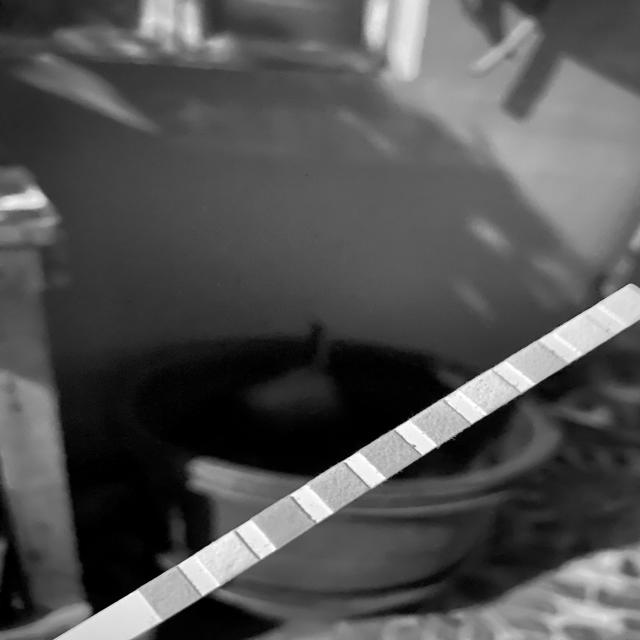Bilirubin: (209, 544, 244, 570)
Blood: (374, 440, 405, 468)
Glucose: (154, 579, 188, 606)
Ketone: (267, 509, 300, 535)
Leukocytes: (611, 295, 640, 311)
Nitrite: (567, 323, 595, 344)
Protein: (474, 378, 504, 403)
SpGravity: (321, 474, 355, 500)
Urobilinogen: (521, 351, 551, 372)
background: (0, 0, 640, 640)
pH: (426, 409, 455, 434)
strip: (57, 283, 640, 640)
